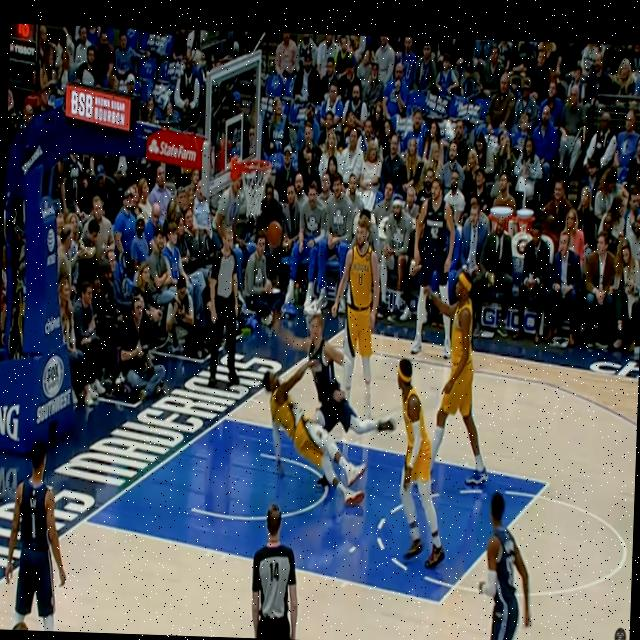foul: (236, 300, 392, 512)
no foul: (377, 264, 482, 582)
